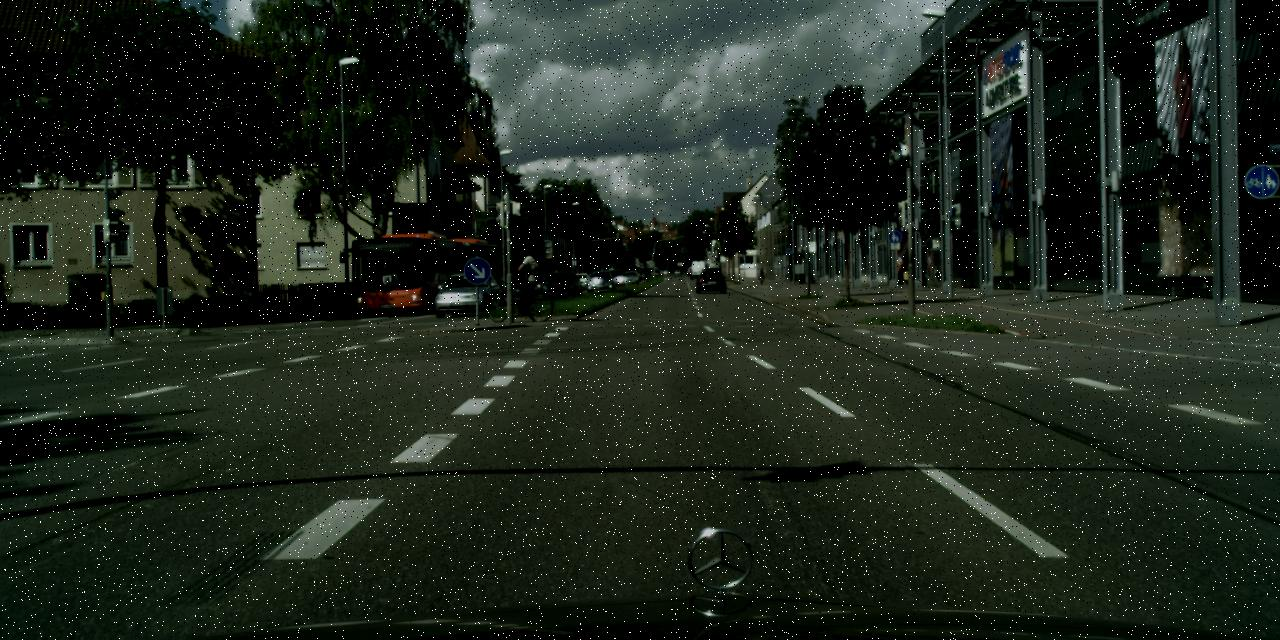ped: (512, 246, 538, 310)
